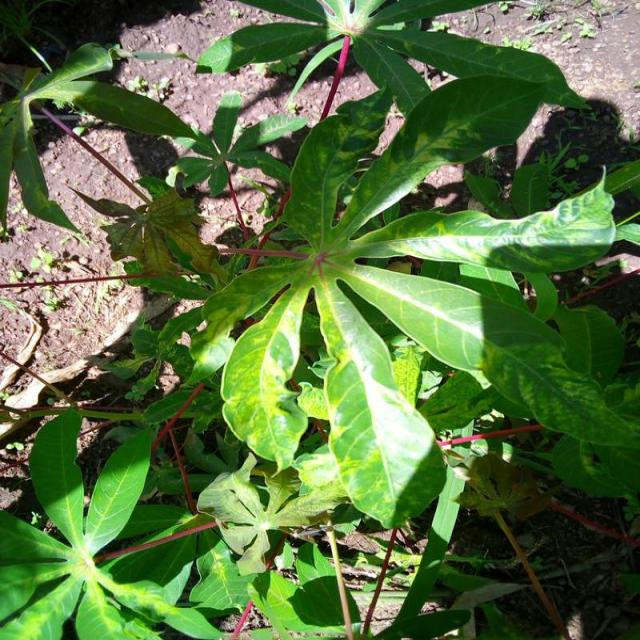cassava leaf: (188, 66, 622, 530)
